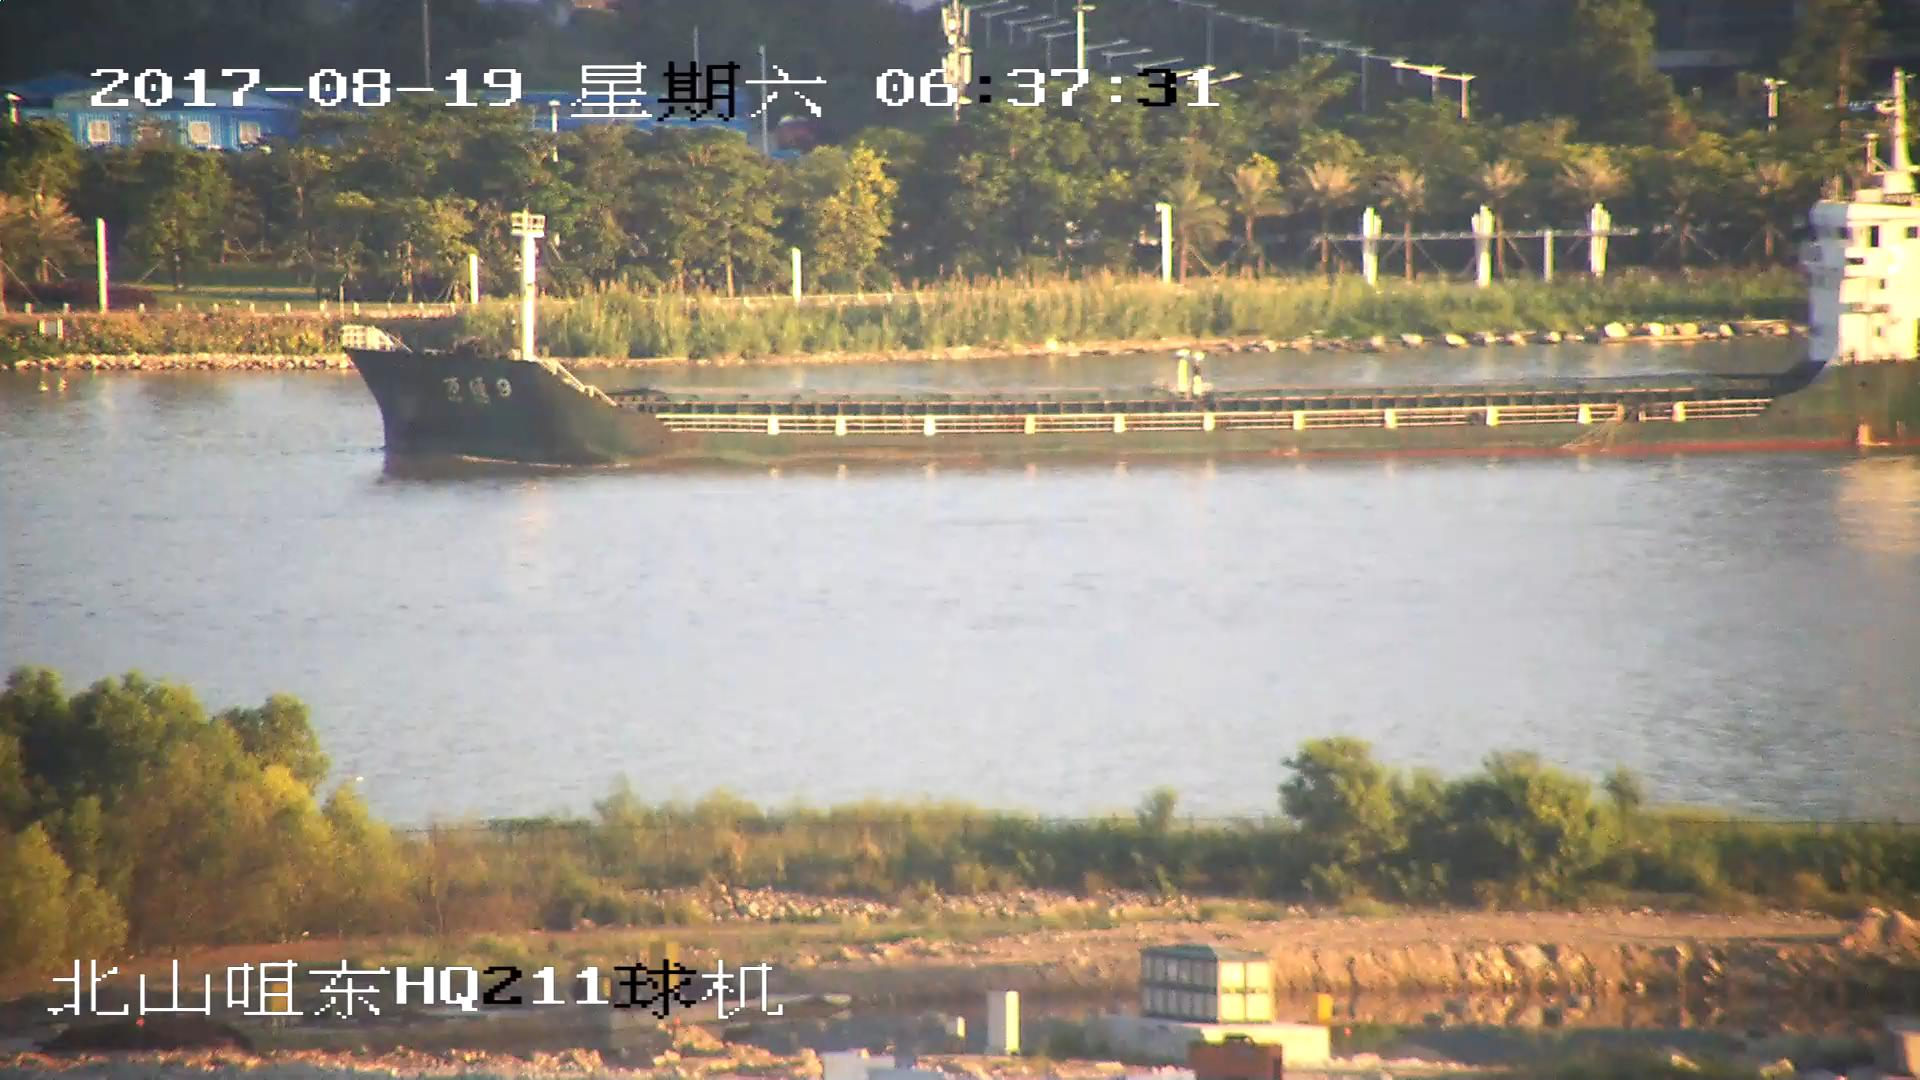general cargo ship: (340, 111, 1920, 468)
